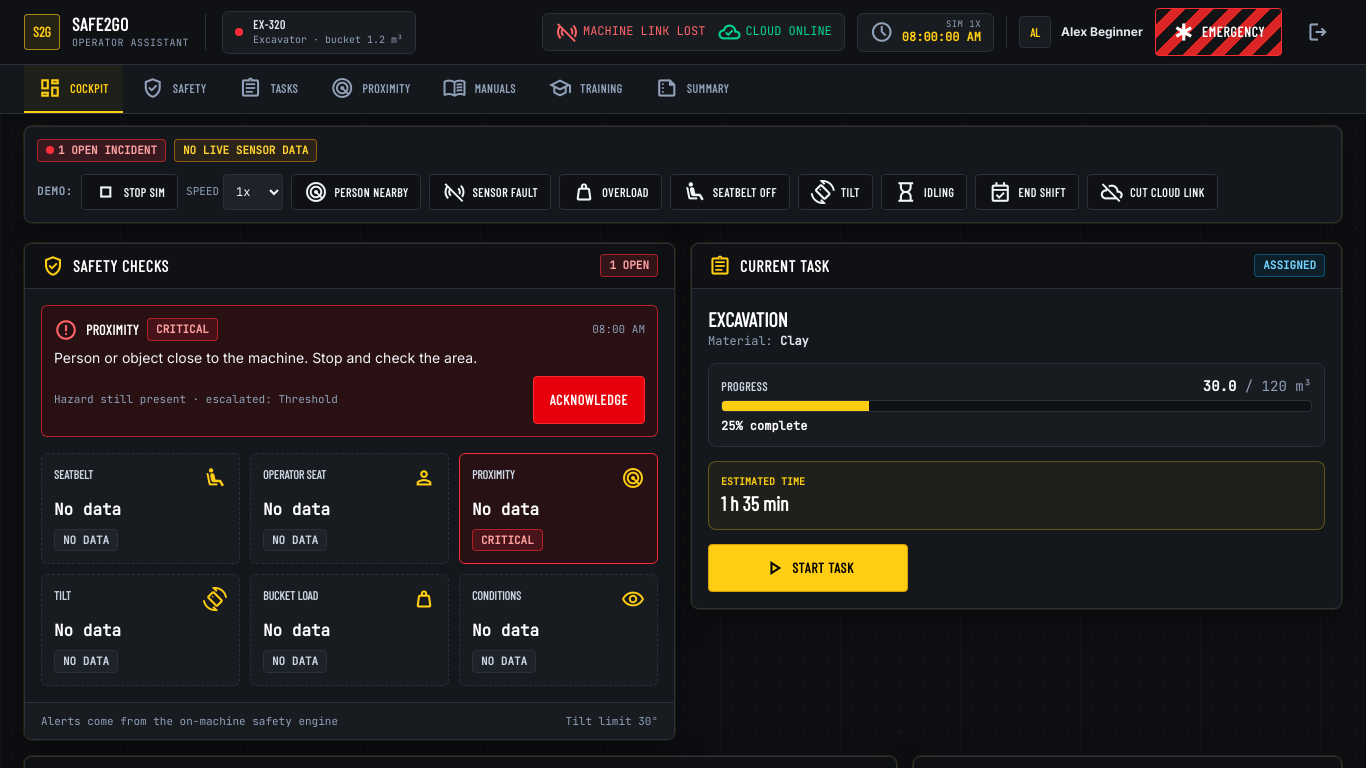
Scenario: Cockpit wiring › acknowledges through the API and shows the backend reason when refused
This screenshot has width=1366, height=768.
Click the button "Acknowledge".
click(589, 400)  # box [533,376,645,424]
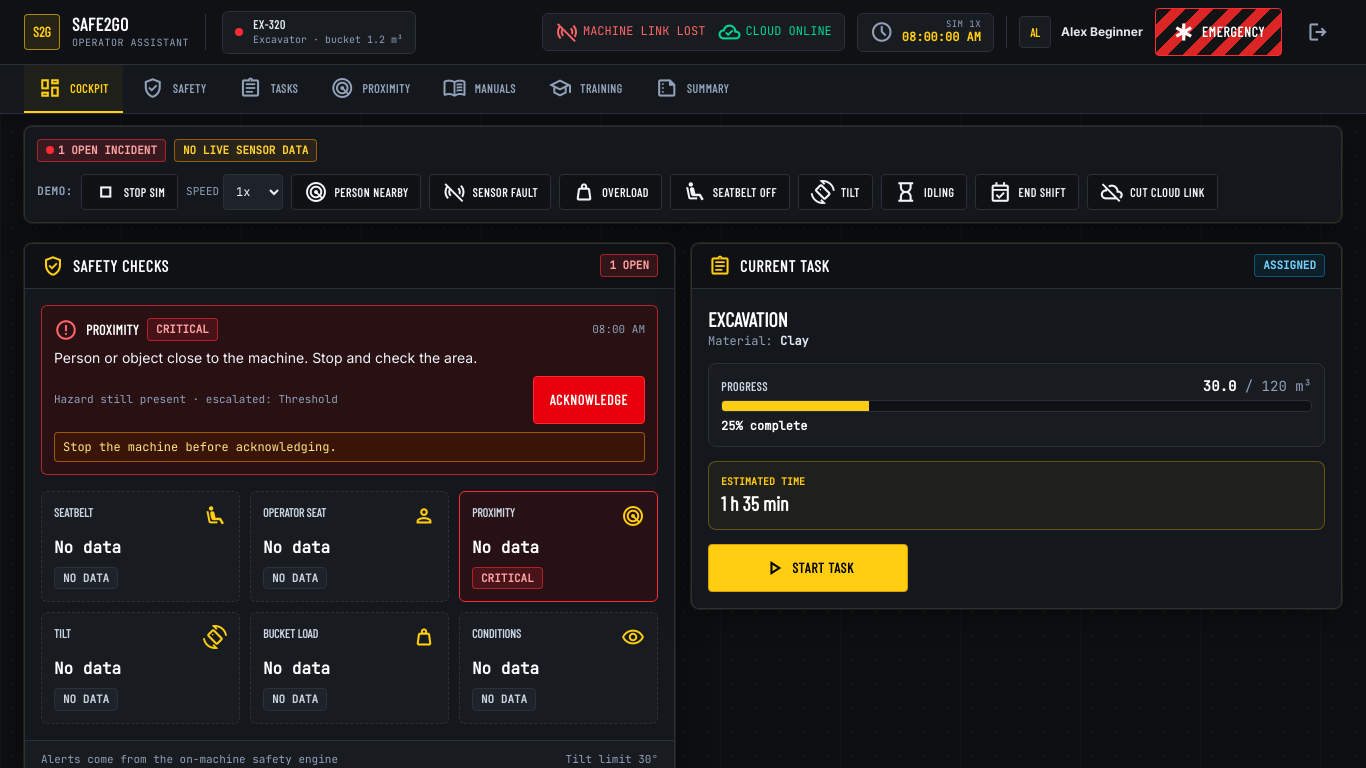
Check: the text "Stop the machine before acknowledging." is shown, box [54,432,645,462]
